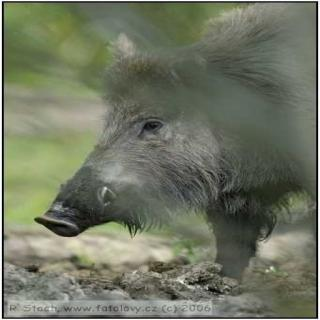Pig: (12, 0, 320, 268)
